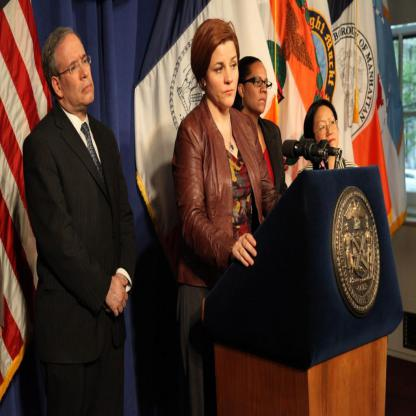face: (64, 34, 96, 106), (208, 40, 239, 108), (313, 107, 339, 156), (246, 63, 270, 111)
